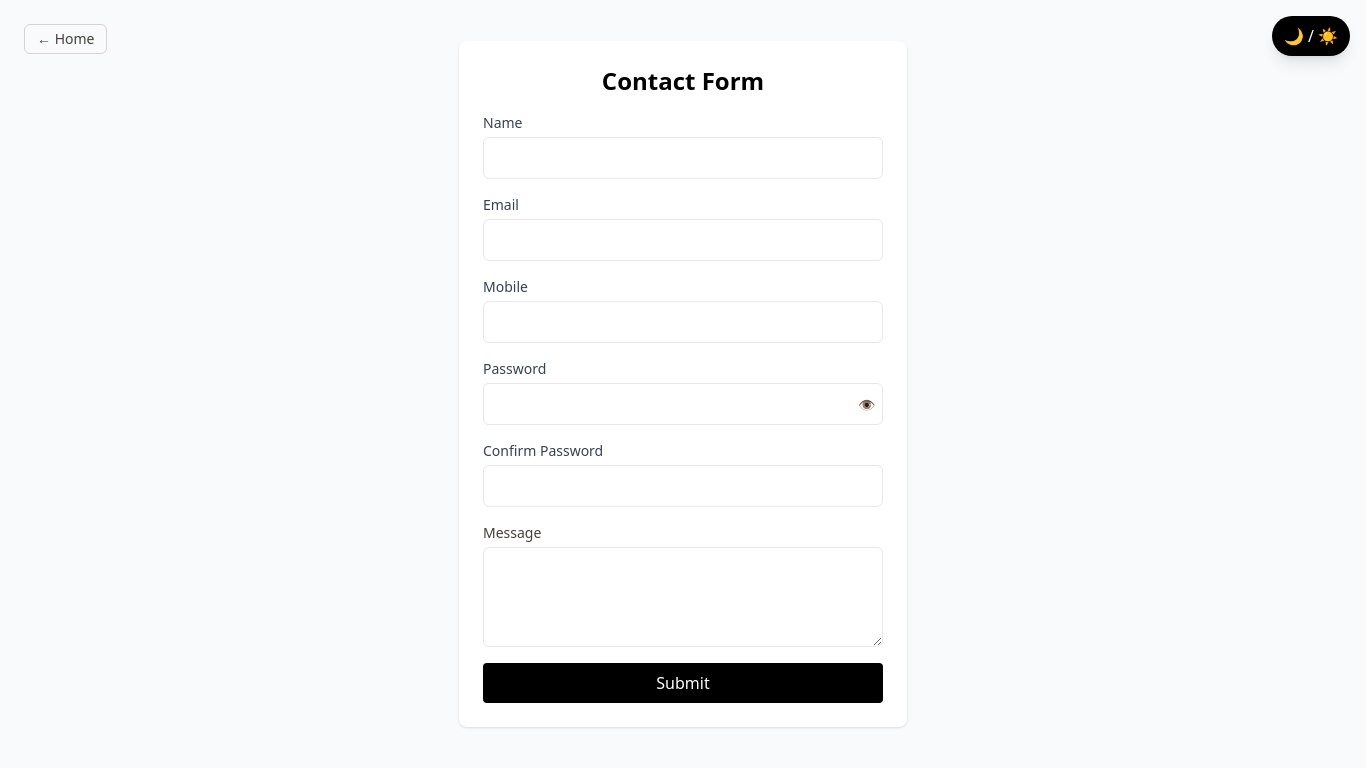
Test case: Form Page › shows invalid email error
Type "wrongemail" into the field below "Email" at [683, 240], box [483, 219, 883, 261]
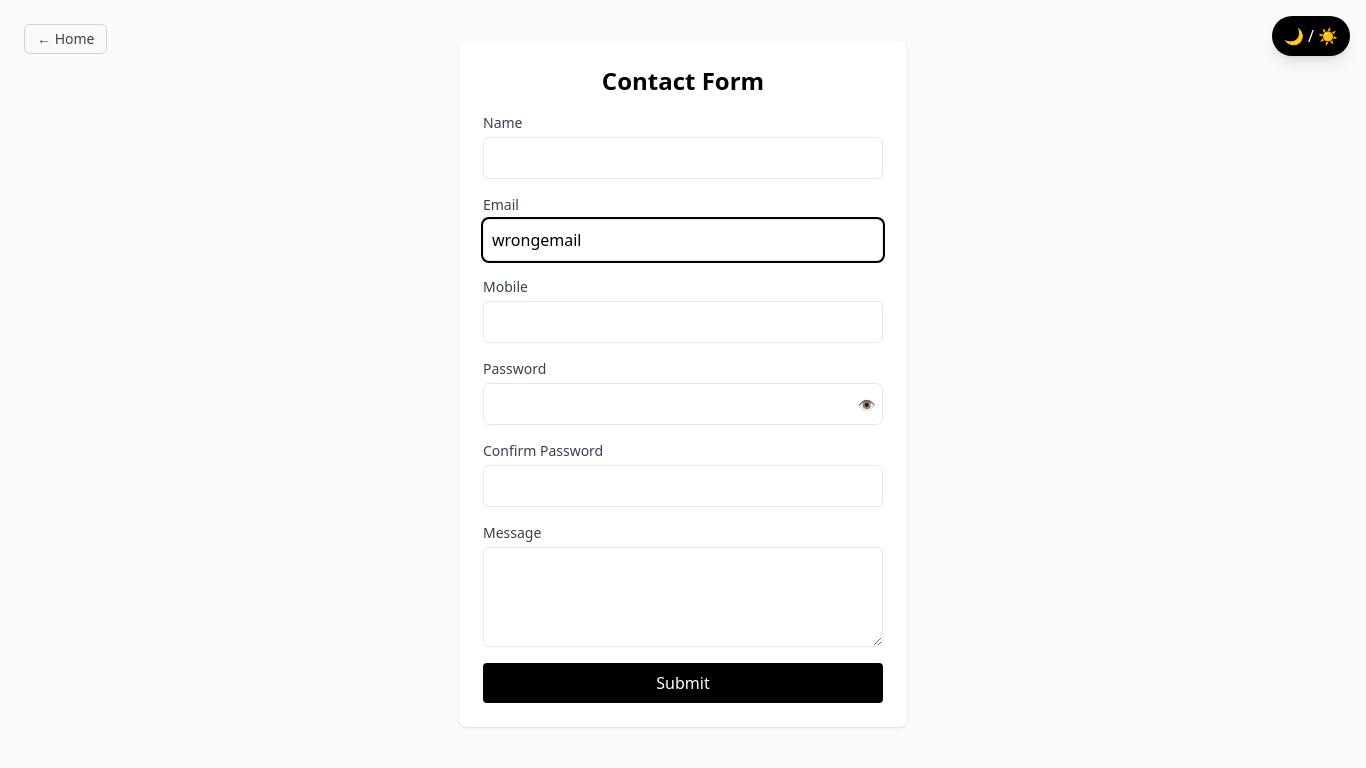
Click the button "Submit" at [683, 683], box [483, 663, 883, 703]
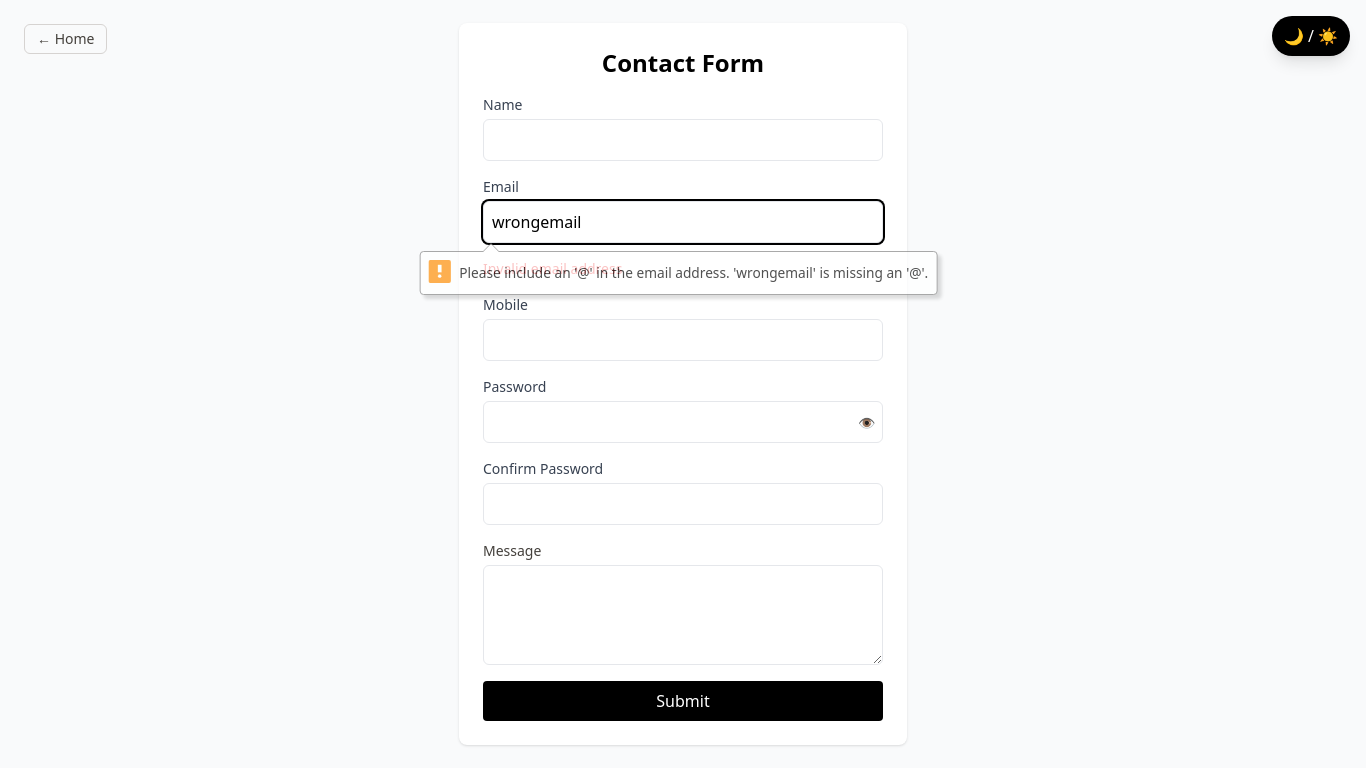
Now the text "Invalid email address" is shown, box [483, 259, 622, 278]
